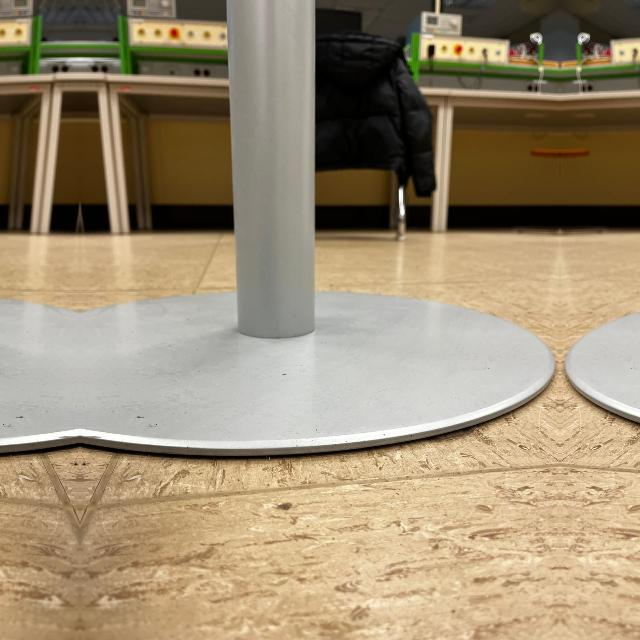obstacle: (80, 49, 558, 453), (0, 49, 80, 453), (562, 49, 640, 453)
